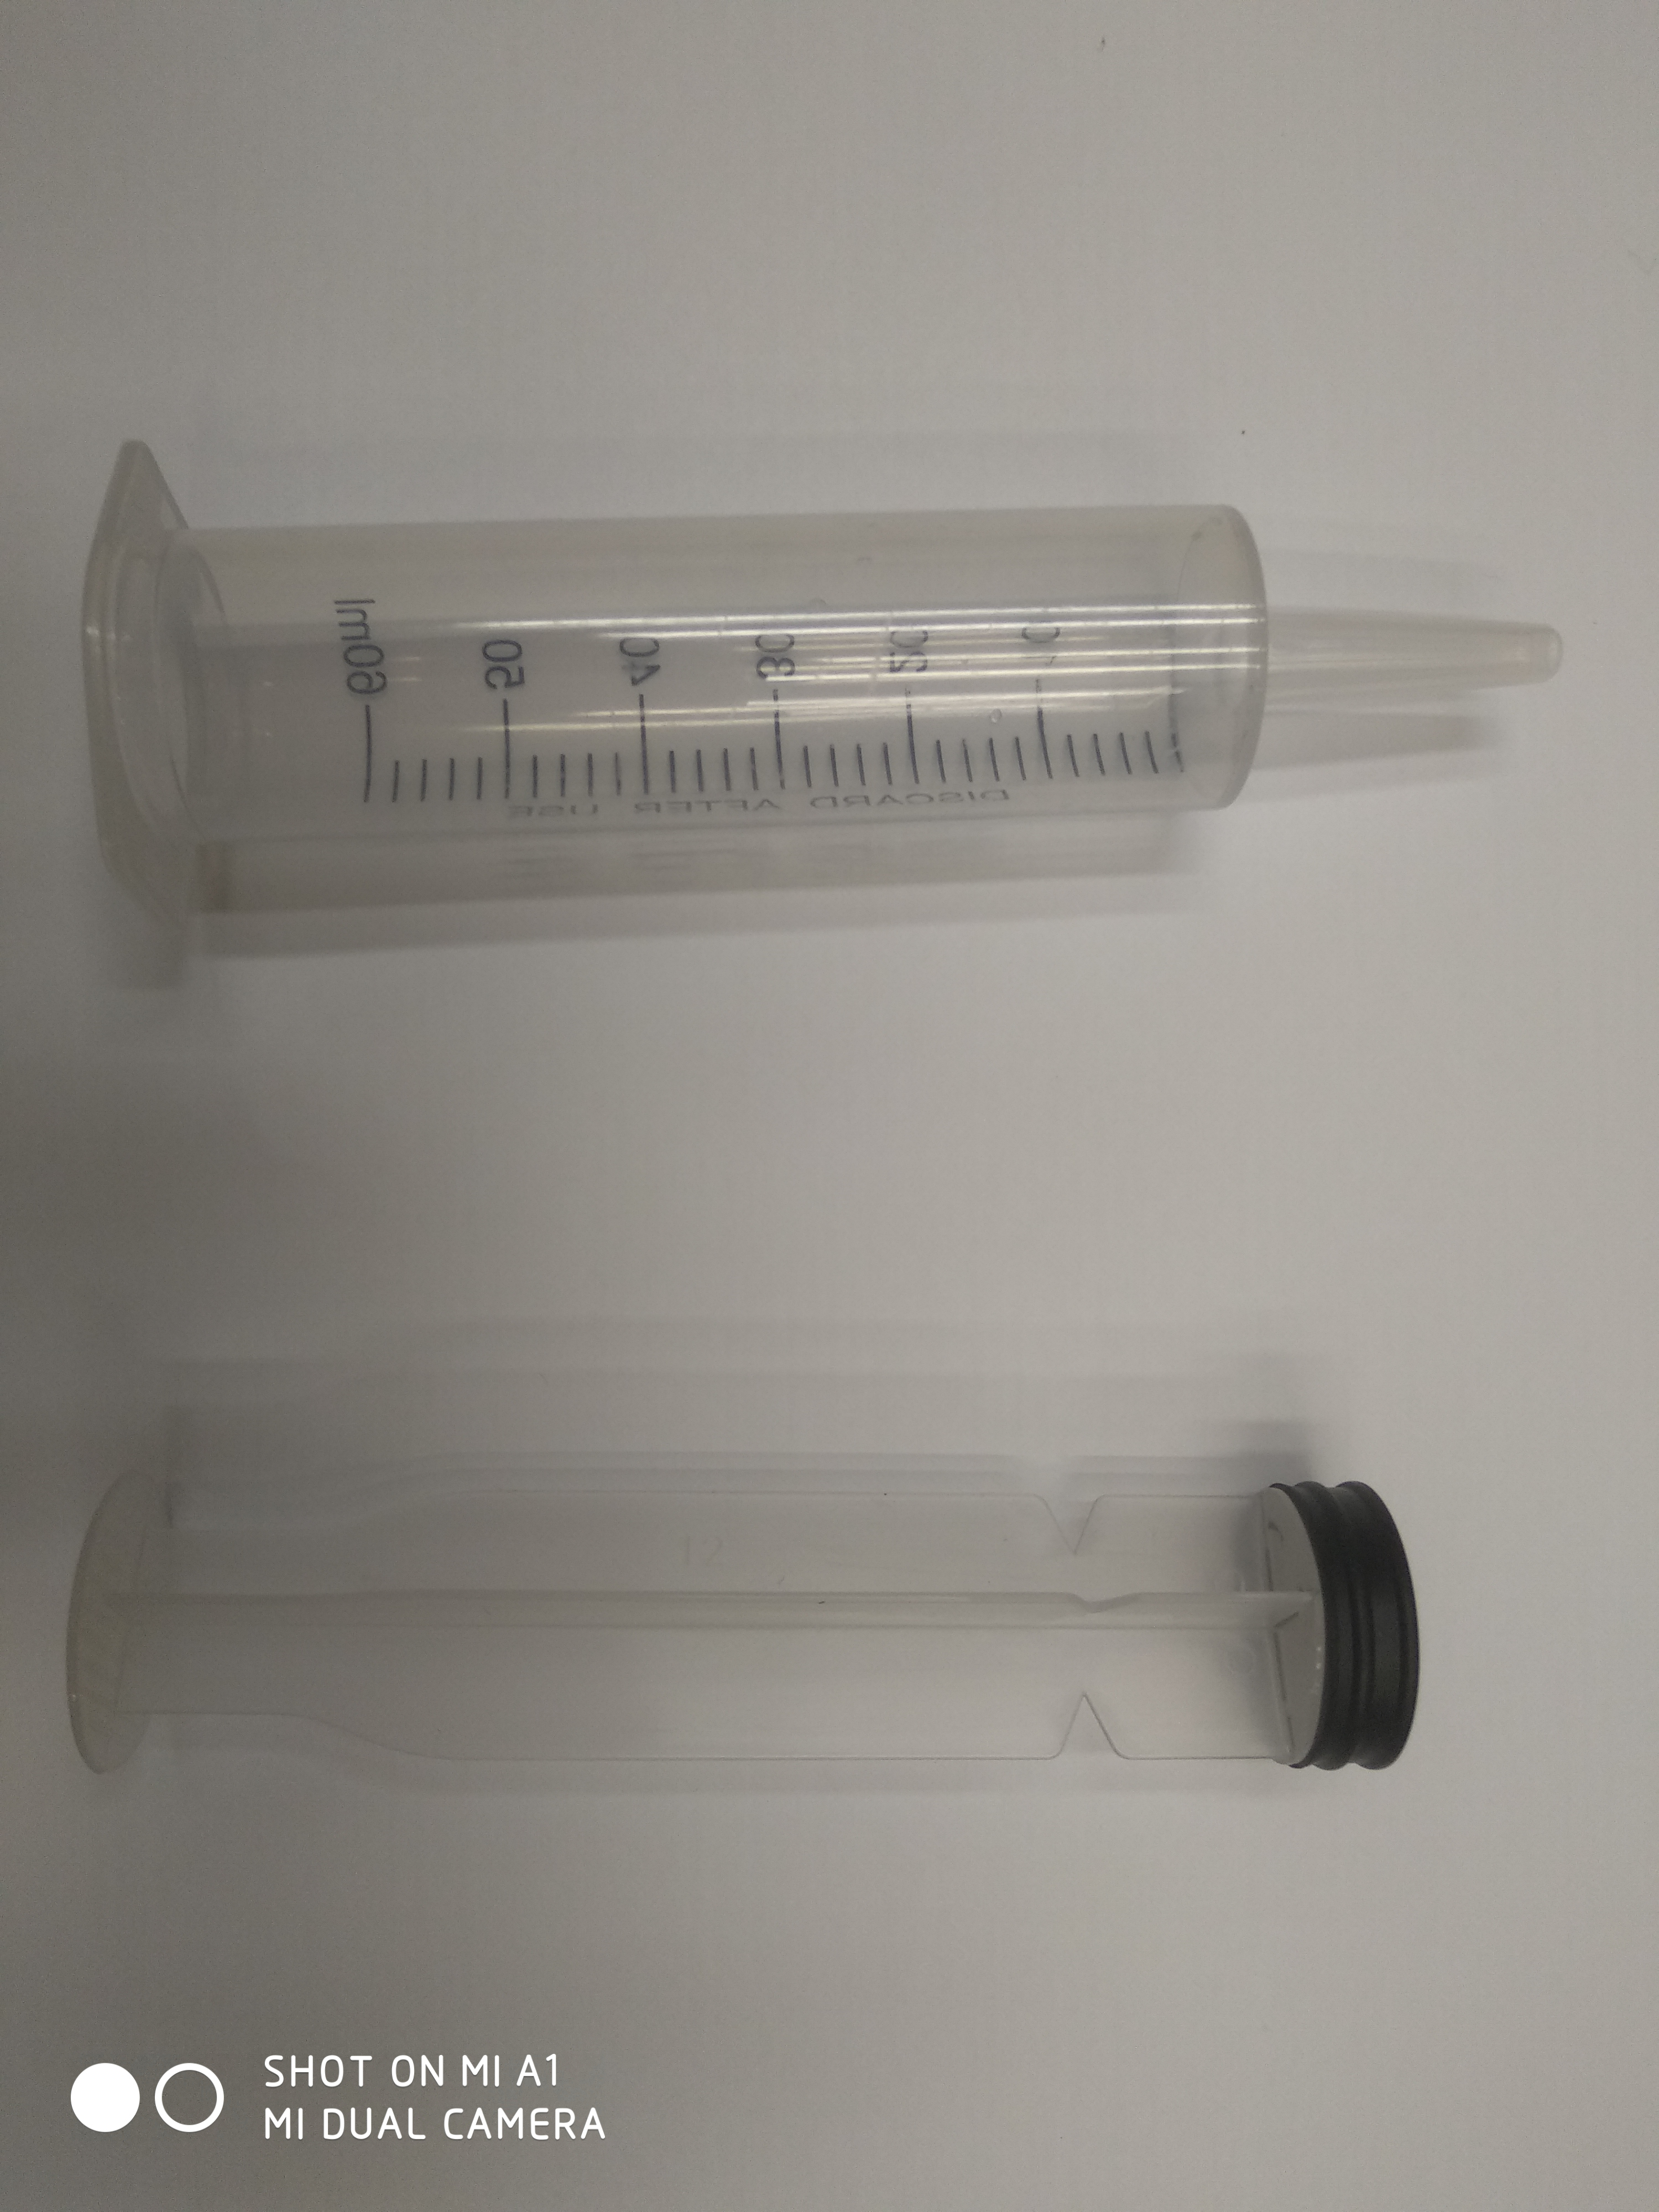plunger: (58, 1432, 1432, 1811)
syringe: (75, 421, 1575, 925)
